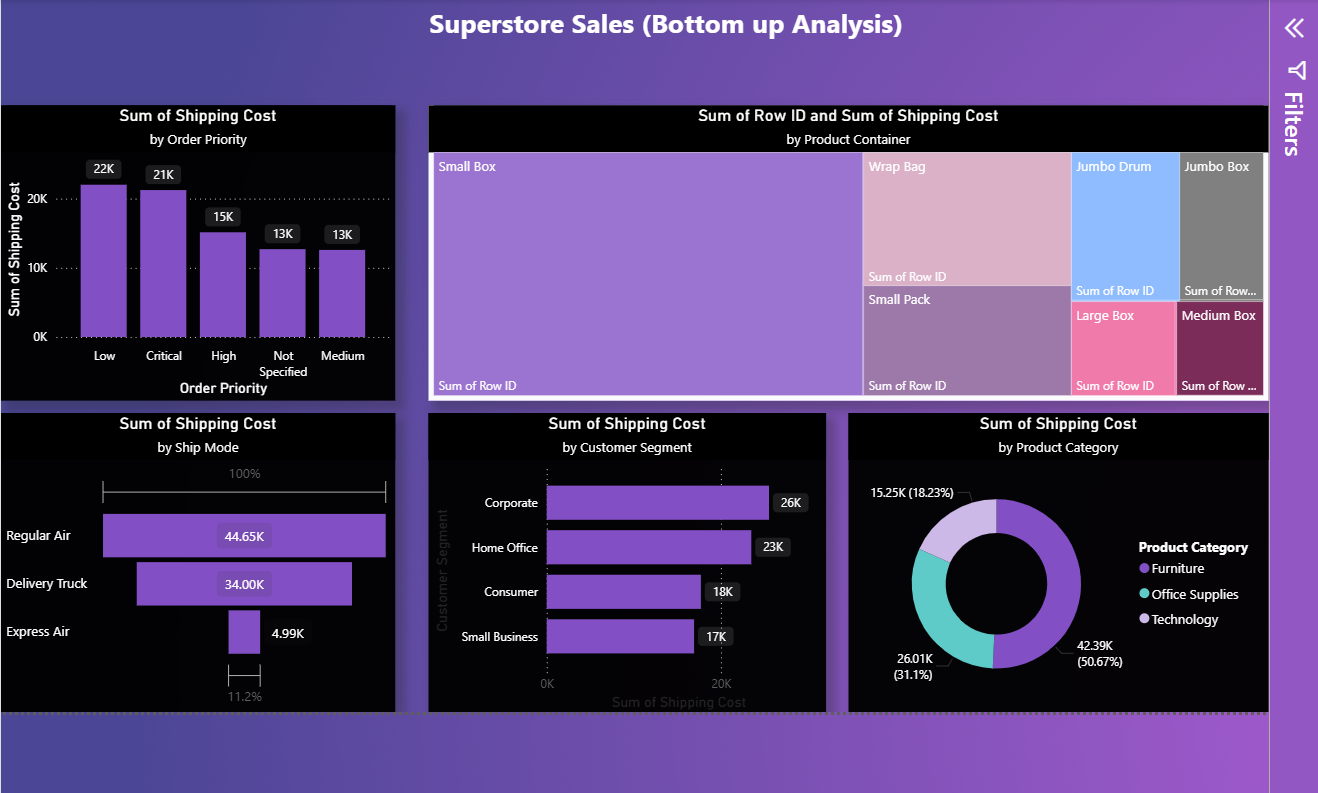

The page's visual inventory and layout, read from the dashboard file:
{"tool":"powerbi","page":{"name":"bottom_up_Analysis/filtering","canvas":[1280,720],"ordinal":1},"visuals":[{"type":"columnChart","fields":{"Category":["Orders.Order Priority"],"Y":["Sum(Orders.Shipping Cost)"]},"box":[0,106.8,398,297.7],"z":0},{"type":"funnel","fields":{"Category":["Orders.Ship Mode"],"Y":["Sum(Orders.Shipping Cost)"]},"box":[0,417.4,398,302.6],"z":1000},{"type":"treemap","fields":{"Group":["Orders.Product Container"],"Values":["Sum(Orders.Row ID)","Sum(Orders.Shipping Cost)"]},"box":[432,106.8,847.8,297.7],"z":2000},{"type":"donutChart","fields":{"Y":["Sum(Orders.Shipping Cost)"],"Category":["Orders.Product Category"]},"box":[855.9,417.4,423.9,302.6],"z":3000},{"type":"barChart","fields":{"Category":["Orders.Customer Segment"],"Y":["Sum(Orders.Shipping Cost)"]},"box":[432,417.4,401.3,304.2],"z":4000},{"type":"textbox","box":[199,0,946.5,89],"z":4001}]}

Visuals, with their boxes on the page's 1280x720 design canvas (x1, y1, x2, y2). These are canvas units, not pixel positions in the 1318x793 screenshot, which may show the page scaled, cropped or inside an application window:
columnChart - Orders.Order Priority x Sum(Orders.Shipping Cost): box=[0, 107, 398, 404]
funnel - Orders.Ship Mode x Sum(Orders.Shipping Cost): box=[0, 417, 398, 720]
treemap - Orders.Product Container x Sum(Orders.Row ID): box=[432, 107, 1280, 404]
donutChart - Sum(Orders.Shipping Cost) x Orders.Product Category: box=[856, 417, 1280, 720]
barChart - Orders.Customer Segment x Sum(Orders.Shipping Cost): box=[432, 417, 833, 722]
textbox: box=[199, 0, 1146, 89]
